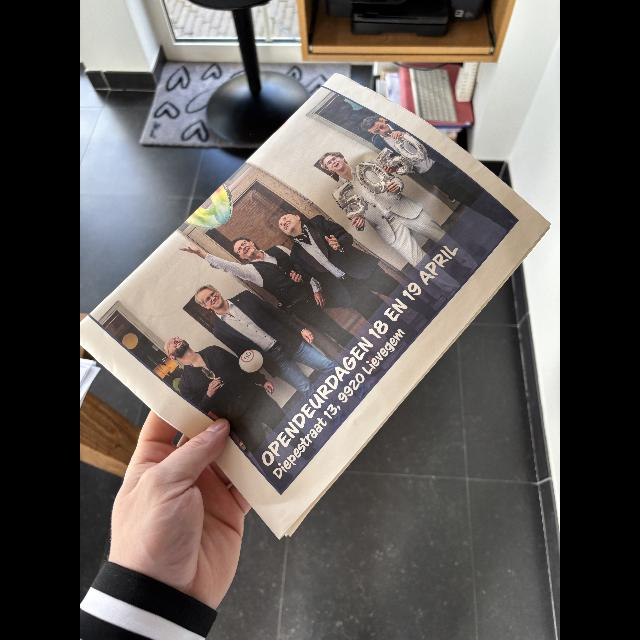Paper: (82, 72, 548, 536)
